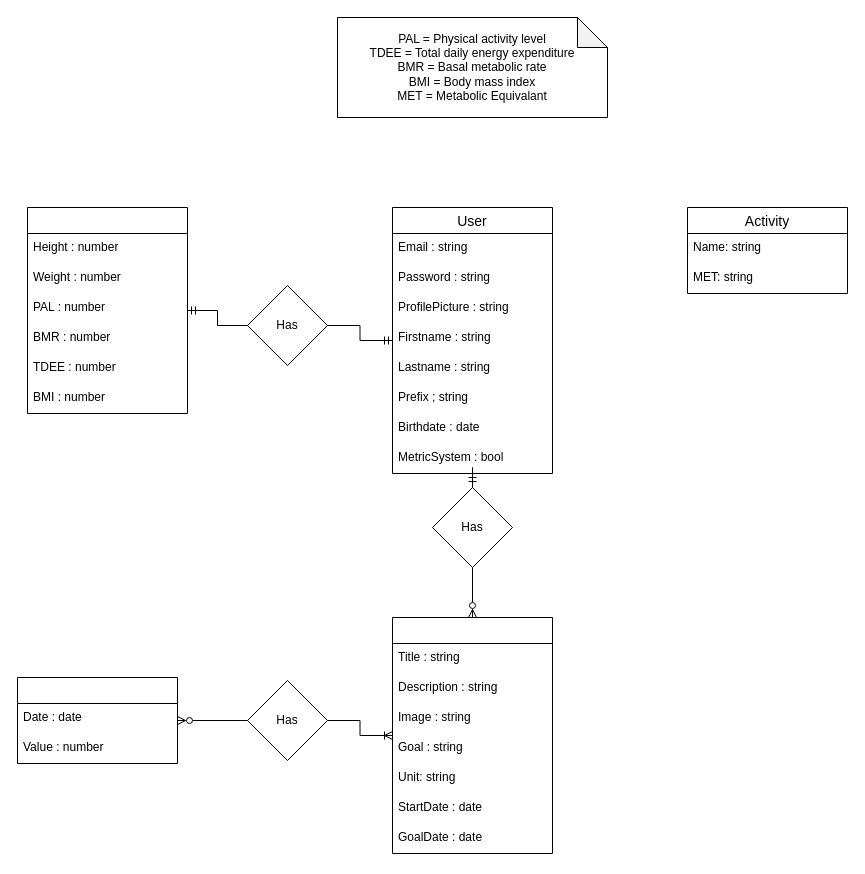
Some shapes in this 865 by 874 pixel diagram are drawn without their labels. The shapes that lost their labels are listed below. From the top down, each one's box as (x1, y1, x2, y2) in pixels, then its label:
(26, 206, 188, 414): Biometrics
(16, 676, 178, 764): Measurement
(392, 616, 552, 854): Tracker
